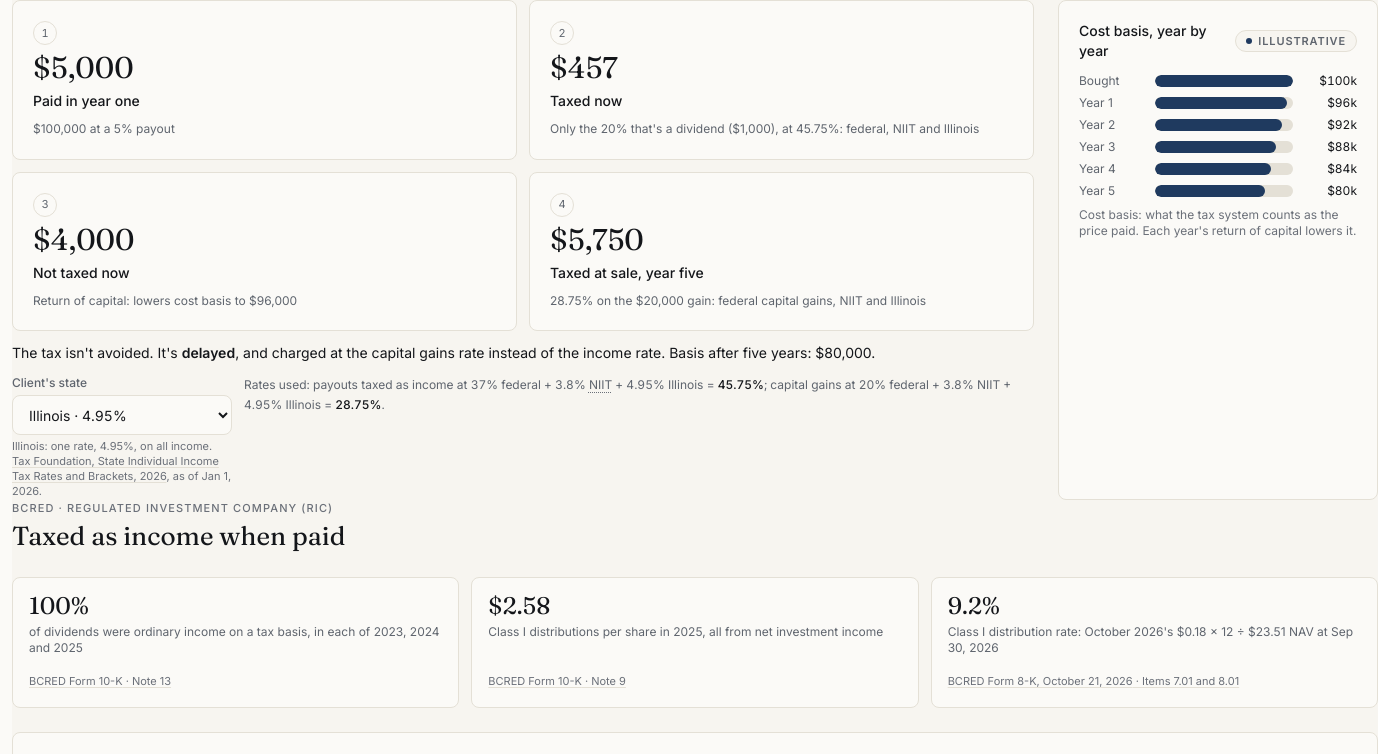
every tax figure adds federal, the NIIT and state tax › the worked example and BCRED's round numbers use the same state
Select "New Jersey · 10.75%" in the dropdown labelled "Client's state" at (122, 415), box [12,395,232,435]
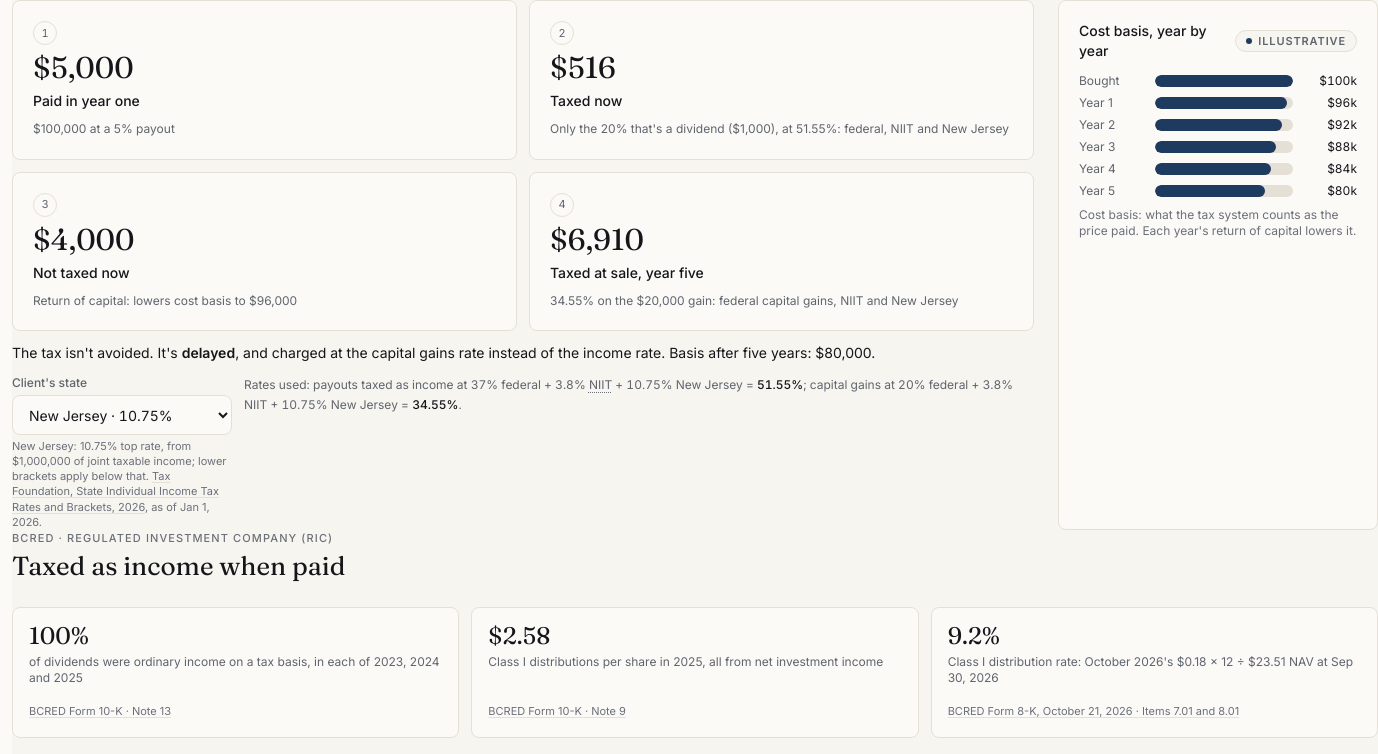
Check: the text "10.75% New Jersey" is shown, box [612,377,743,392]
